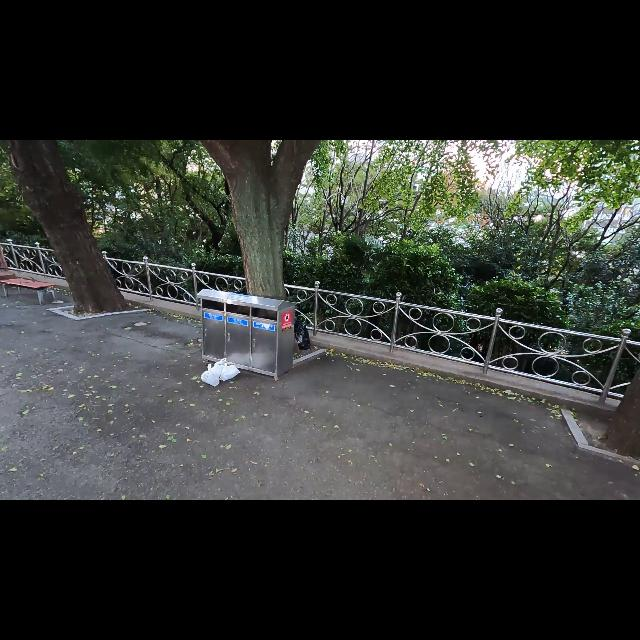trash: (294, 315, 312, 351), (201, 362, 221, 388), (220, 364, 240, 382), (212, 356, 234, 372)
